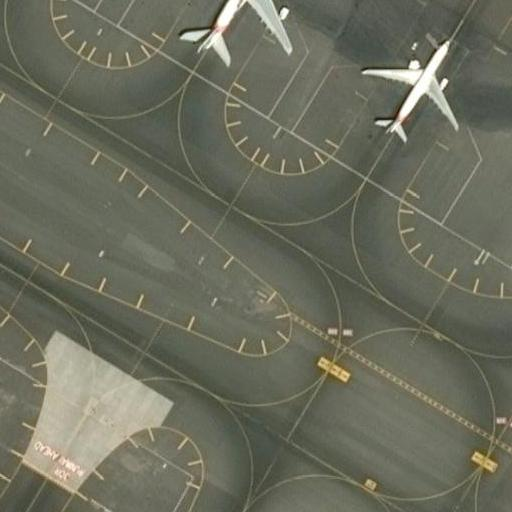Aircraft: (355, 23, 464, 146), (153, 0, 296, 77)
